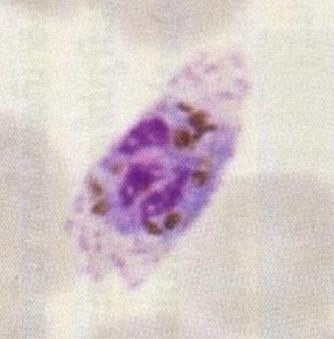Infected: (62, 39, 256, 297)
